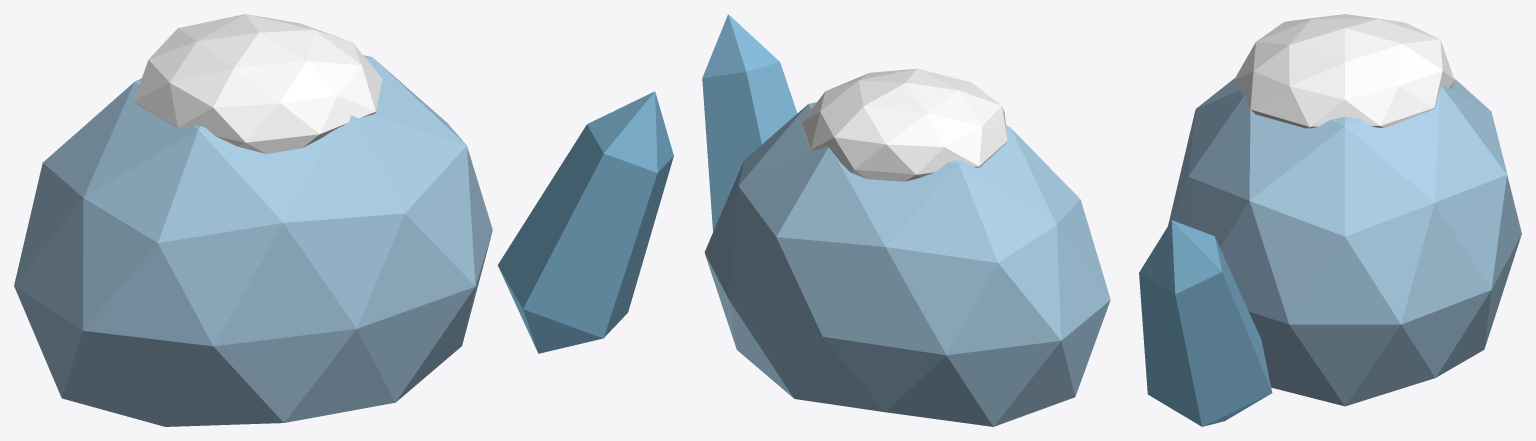
Rendered from ice-g0.glb.
3 views of the same model, side by side, from view 1: azimuth 30°, elevation 25°; view 2: azimuth 150°, elevation 25°; view 3: azimuth 270°, elevation 25° (orthographic). The views are drawn at different scales.
Parts seen in each view (by area): view 1: ice-g0; view 2: ice-g0; view 3: ice-g0.
Boxes of the visible parts, x1,y1,x2,y2 form: ice-g0: (14,14,673,426); ice-g0: (702,14,1110,426); ice-g0: (1139,14,1521,426).
Bounding box in the file's own units: 0.7521 × 0.4368 × 0.5091.
